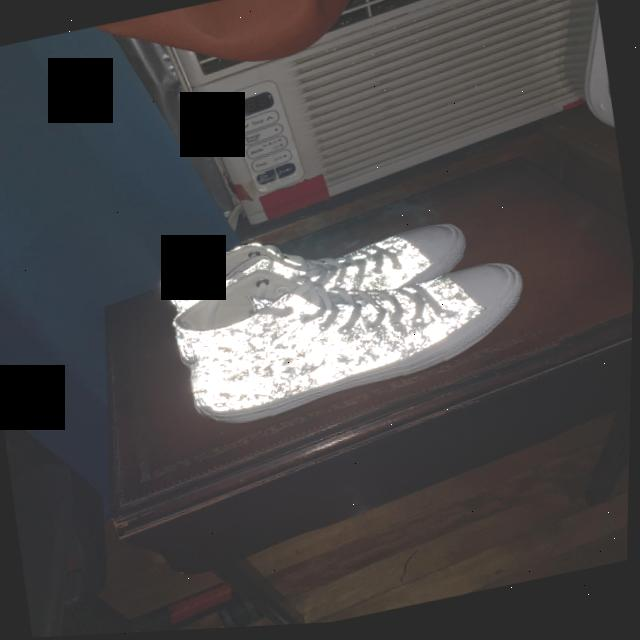shoe: (180, 227, 567, 441), (150, 206, 468, 332)
